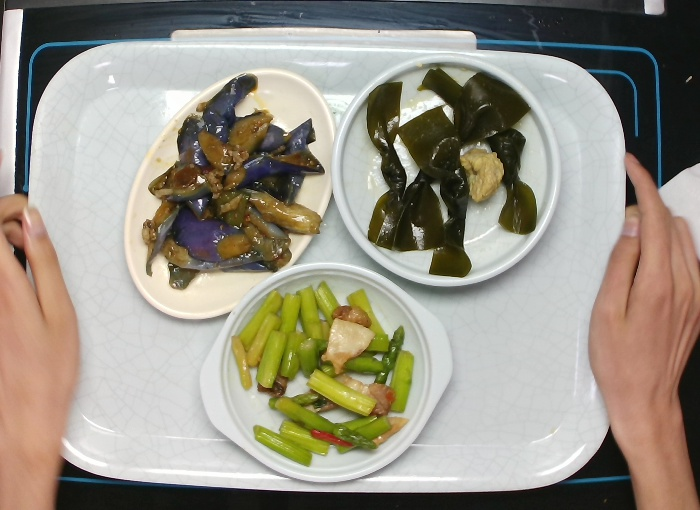JYsf-Shuang_Er_Pan: (197, 258, 457, 484)
JYsf-Tuo_Yuan_Wan: (121, 64, 340, 320)
JYsf-Xiao_Yuan_Pan: (328, 53, 568, 292)
